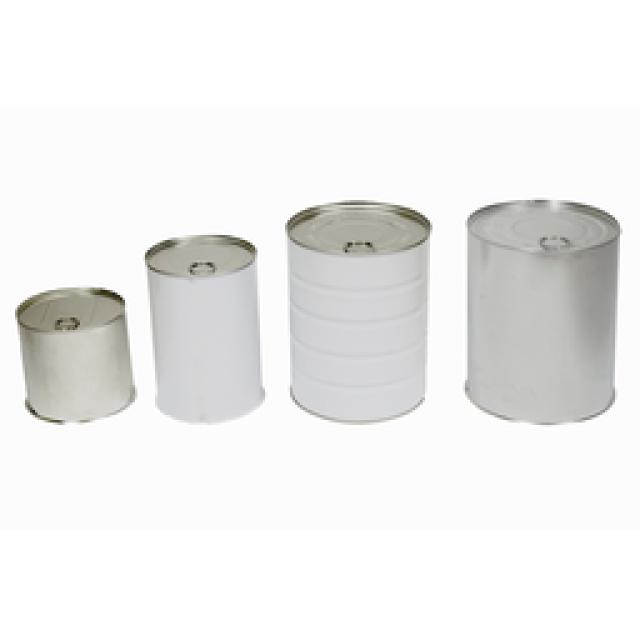alumunium: (465, 200, 618, 420), (285, 200, 428, 420), (145, 235, 262, 420), (18, 288, 132, 420)
